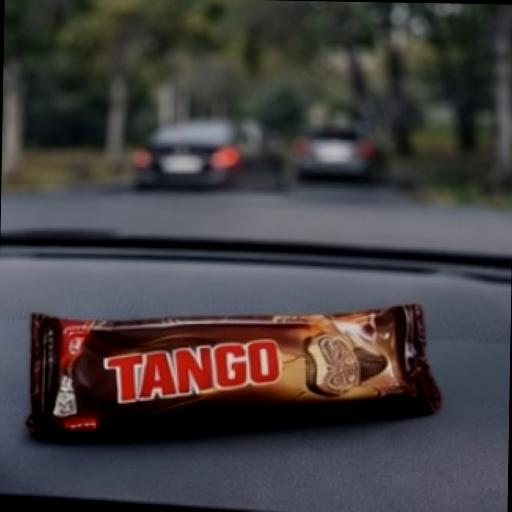tango: (0, 245, 487, 488)
